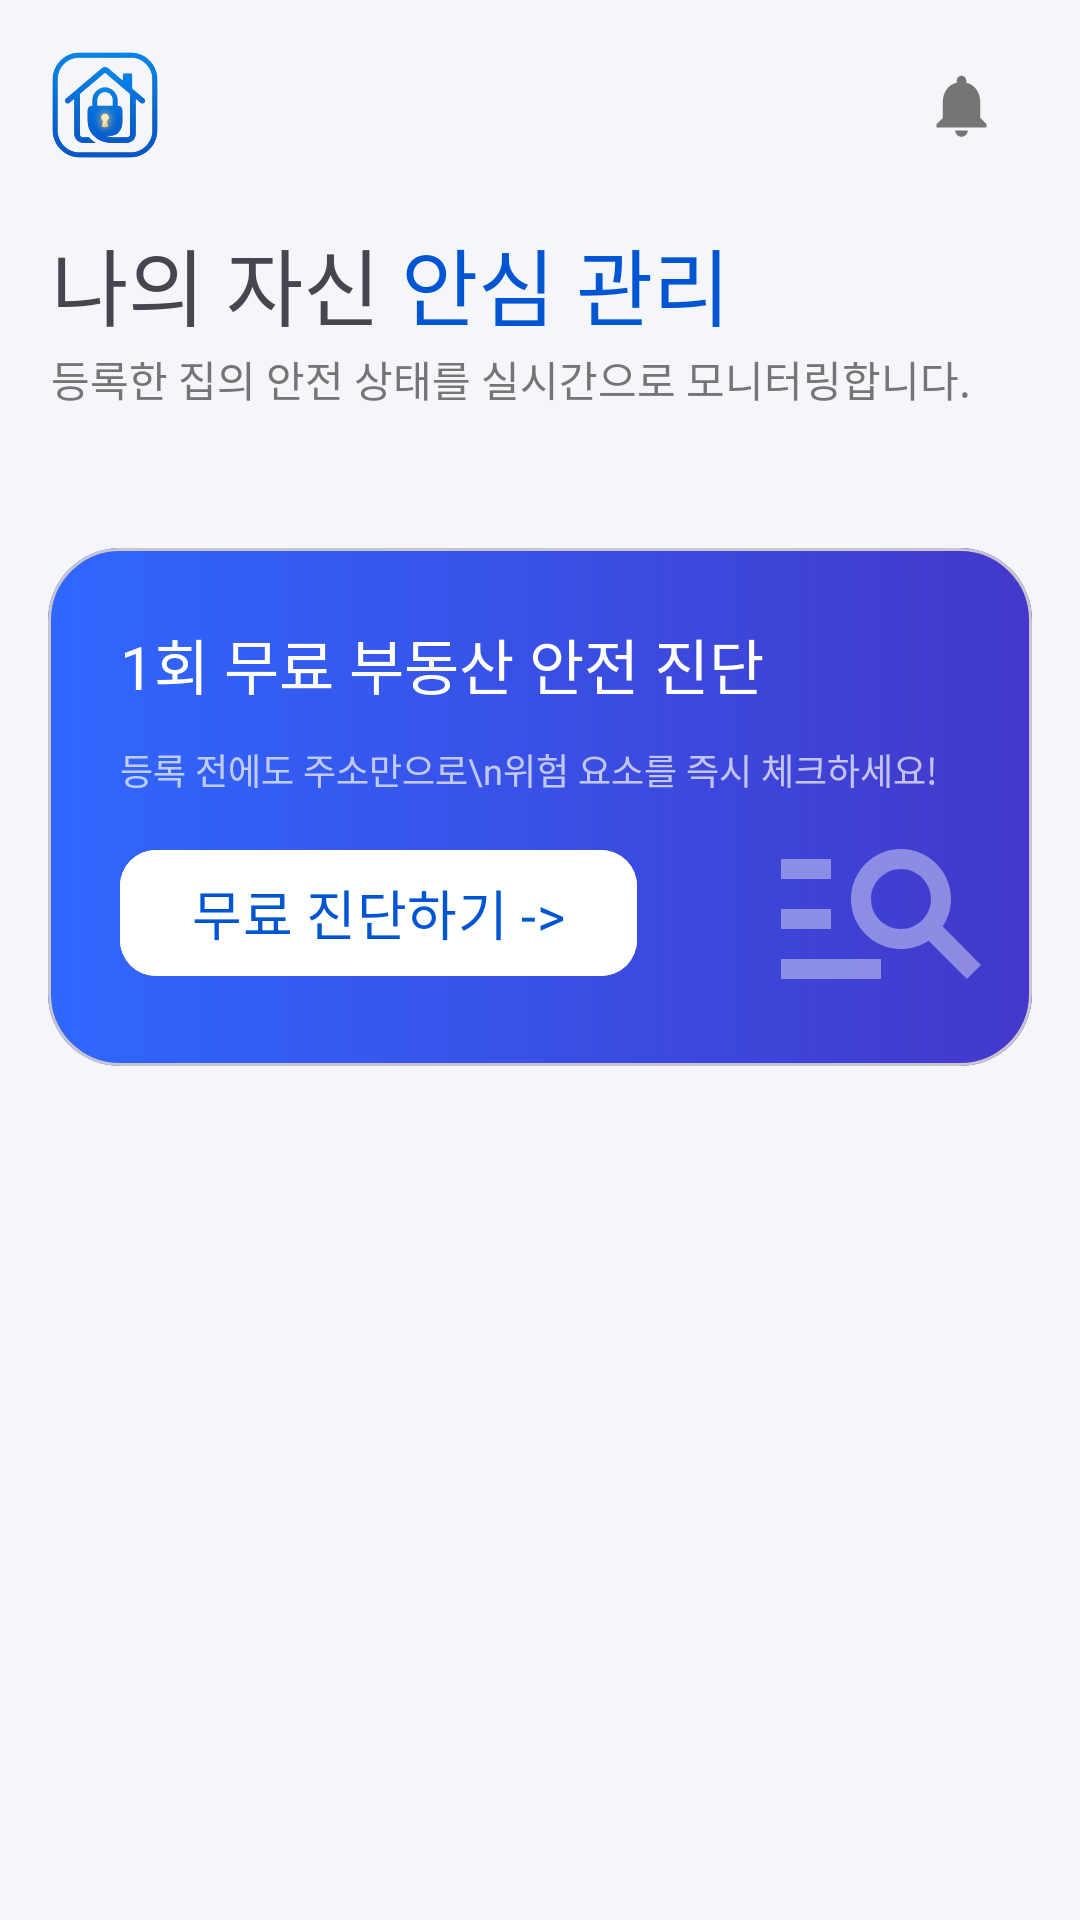

Screen size 1080px×1920px. Icon name, then its center in pixels as (x,y):
manage search: (881,914)
notifications: (961,106)
